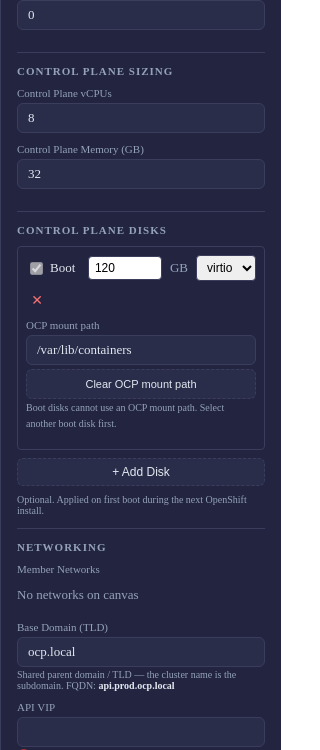
Test: PropertiesPanel cluster editor › allows repairing legacy boot-and-mount conflicts in cluster disk properties
The image size is (320, 750).
(page scrolled)
Check: the field labelled "OCP mount path" is disabled, box [26,335,256,365]
Check: the checkbox labelled "Boot" is disabled, box [30,262,43,275]
Click the button "Clear OCP mount path": (141,384) [26,369,256,399]
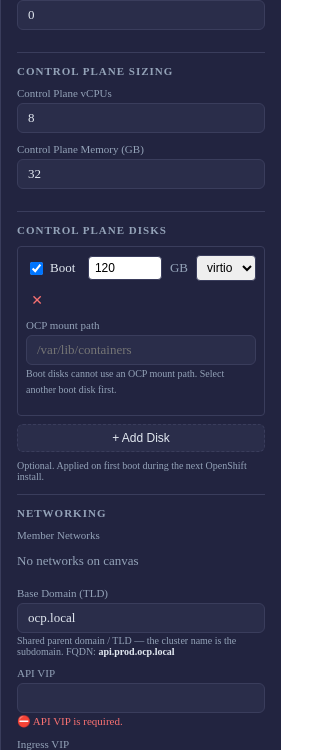
Check: the field labelled "OCP mount path" is empty, box [26,335,256,365]
Check: the checkbox labelled "Boot" is enabled, box [30,262,43,275]
Check: the button "Clear OCP mount path" is gone
